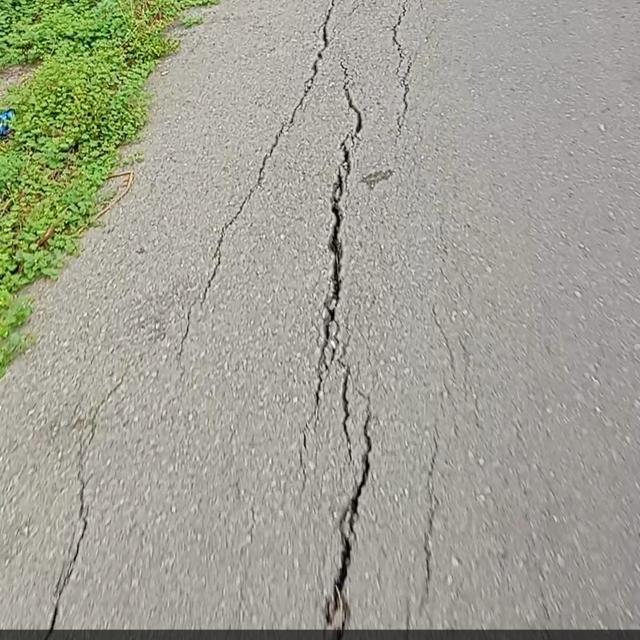Memanjang: (164, 6, 357, 353), (16, 380, 133, 639), (304, 75, 373, 412), (300, 400, 392, 638)
